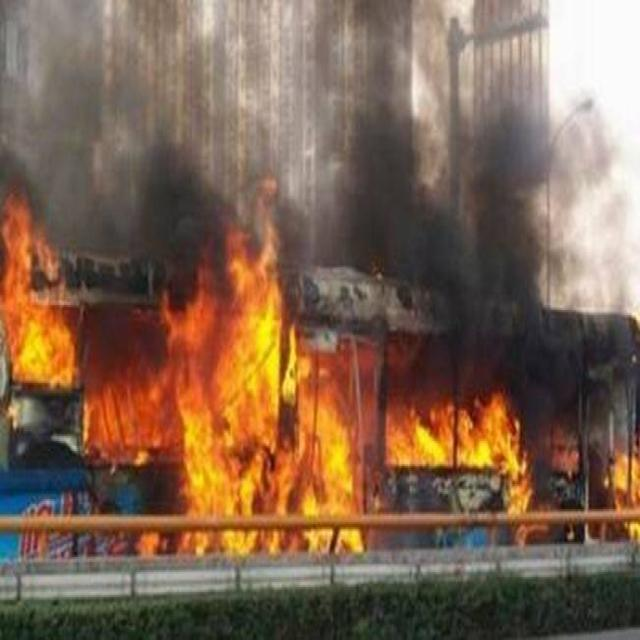Fire: (104, 249, 346, 552), (0, 171, 101, 451), (352, 383, 550, 523), (607, 411, 640, 565)
Smoke: (354, 6, 636, 376), (4, 1, 348, 167)
